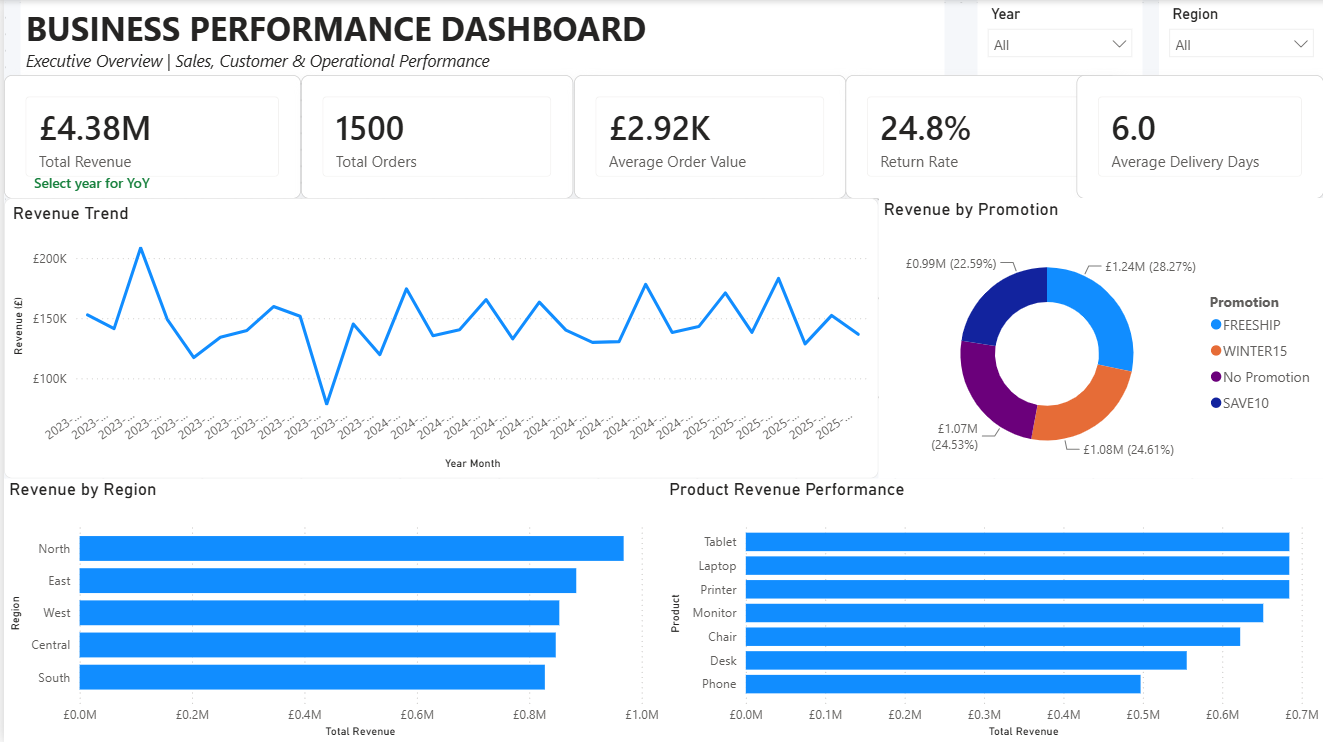

The dashboard page shown, as its layout file describes it:
{"tool":"powerbi","page":{"name":"Executive Overview","canvas":[1280,720],"ordinal":0},"visuals":[{"type":"textbox","box":[16,0,896,80],"z":0},{"type":"slicer","fields":{"Values":["CalendarTable.Year"]},"box":[944,0,160,80],"z":1000},{"type":"slicer","fields":{"Values":["Sales_Data.Region"]},"box":[1120,0,160,80],"z":2000},{"type":"cardVisual","fields":{"Data":["_Measures.Total Revenue"]},"box":[0,72,288,120],"z":3000},{"type":"cardVisual","fields":{"Data":["_Measures.Total Orders"]},"box":[288,72,264,120],"z":4000},{"type":"cardVisual","fields":{"Data":["_Measures.Average Order Value"]},"box":[552,72,264,120],"z":5000},{"type":"cardVisual","fields":{"Data":["_Measures.Return Rate"]},"box":[816,72,264,120],"z":6000},{"type":"cardVisual","fields":{"Data":["_Measures.Average Delivery Days"]},"box":[1040,72,240,120],"z":7000},{"type":"lineChart","title":"Revenue Trend","fields":{"Category":["CalendarTable.Year Month"],"Y":["_Measures.Total Revenue"]},"box":[0,192,848,272],"z":8000},{"type":"clusteredBarChart","title":"Revenue by Region","fields":{"Category":["Sales_Data.Region"],"Y":["_Measures.Total Revenue"]},"box":[0,464,640,256],"z":9000},{"type":"clusteredBarChart","title":"Product Revenue Performance","fields":{"Category":["Sales_Data.Product"],"Y":["_Measures.Total Revenue"]},"box":[640,464,640,256],"z":10000},{"type":"cardVisual","fields":{"Data":["_Measures.Revenue YoY Indicator"]},"box":[0,144,176,64],"z":10500},{"type":"donutChart","title":"Revenue by Promotion","fields":{"Category":["Sales_Data.Promotion"],"Y":["_Measures.Total Revenue"]},"box":[848,192,432,272],"z":11000}]}

Visuals, with their boxes in screenshot pixels (x1, y1, x2, y2), scaled from the page's 1280x720 canvas onto the 1323x742 screenshot:
textbox: pyautogui.locateOnScreen(17, 0, 943, 82)
slicer - CalendarTable.Year: pyautogui.locateOnScreen(976, 0, 1141, 82)
slicer - Sales_Data.Region: pyautogui.locateOnScreen(1158, 0, 1322, 82)
cardVisual - _Measures.Total Revenue: pyautogui.locateOnScreen(0, 74, 298, 198)
cardVisual - _Measures.Total Orders: pyautogui.locateOnScreen(298, 74, 571, 198)
cardVisual - _Measures.Average Order Value: pyautogui.locateOnScreen(571, 74, 843, 198)
cardVisual - _Measures.Return Rate: pyautogui.locateOnScreen(843, 74, 1116, 198)
cardVisual - _Measures.Average Delivery Days: pyautogui.locateOnScreen(1075, 74, 1322, 198)
"Revenue Trend" lineChart: pyautogui.locateOnScreen(0, 198, 876, 478)
"Revenue by Region" clusteredBarChart: pyautogui.locateOnScreen(0, 478, 662, 741)
"Product Revenue Performance" clusteredBarChart: pyautogui.locateOnScreen(662, 478, 1322, 741)
cardVisual - _Measures.Revenue YoY Indicator: pyautogui.locateOnScreen(0, 148, 182, 214)
"Revenue by Promotion" donutChart: pyautogui.locateOnScreen(876, 198, 1322, 478)
